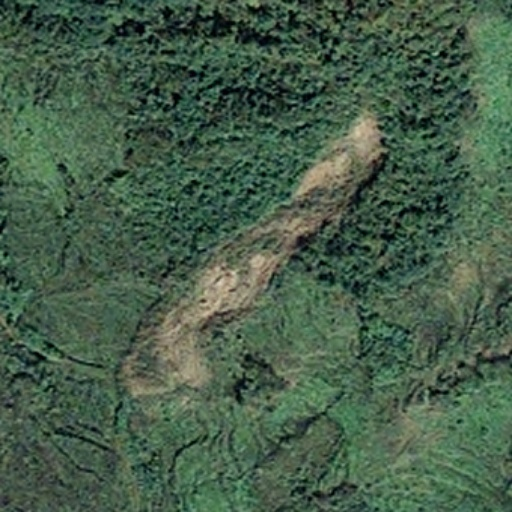landslide: (124, 114, 385, 394)
